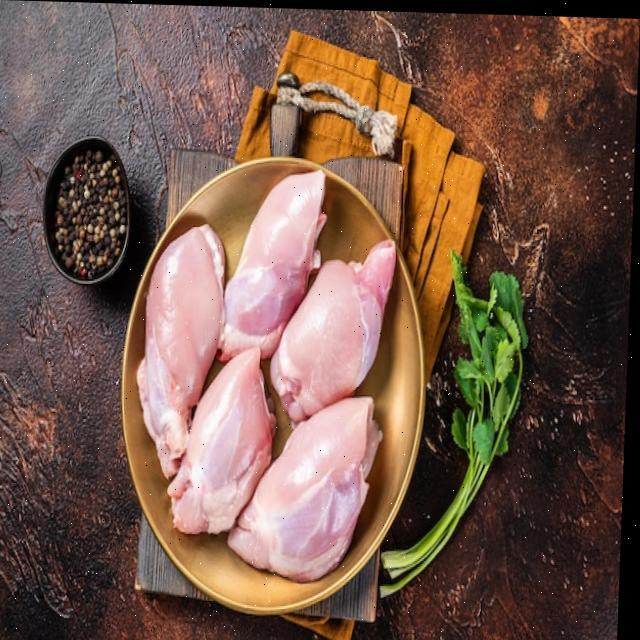thigh: (246, 375, 398, 598), (265, 215, 407, 432), (107, 217, 235, 453), (212, 170, 355, 364), (150, 352, 274, 554)
